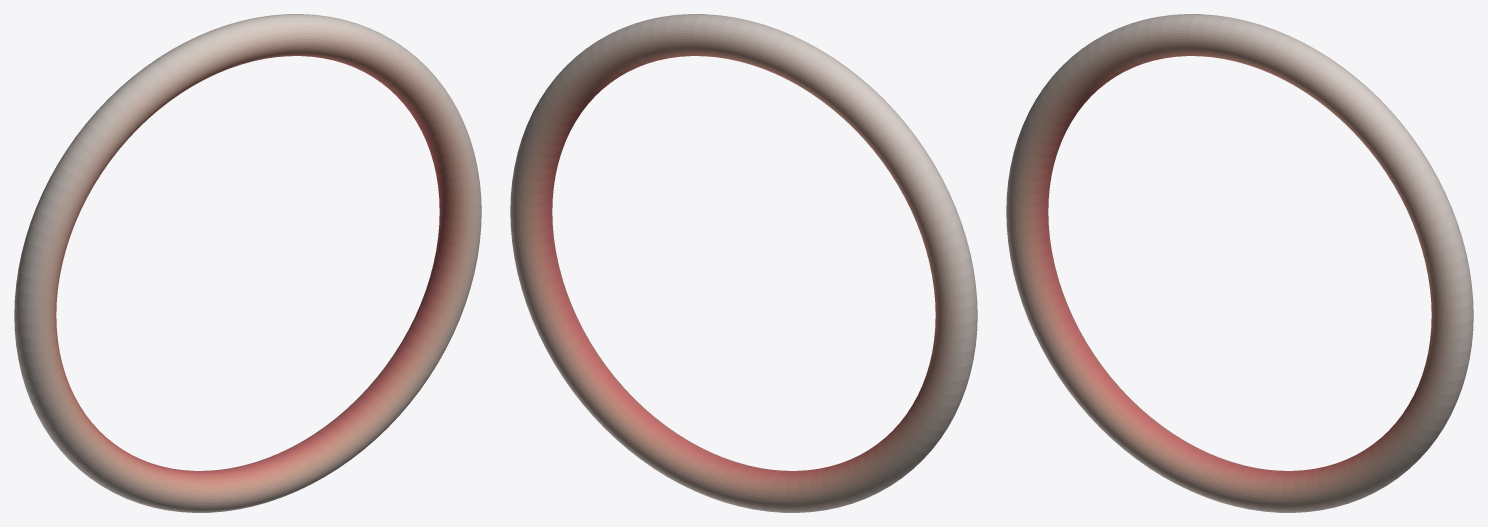
3 views of the same model, side by side, from view 1: azimuth 30°, elevation 25°; view 2: azimuth 150°, elevation 25°; view 3: azimuth 330°, elevation 25° (orthographic).
Visible parts, largest first — view 1: world; view 2: world; view 3: world.
Boxes of the visible parts, x1,y1,x2,y2 form: world: [14, 14, 481, 512]; world: [510, 14, 977, 512]; world: [1006, 14, 1473, 512].
Bounding box in the file's own units: 25.33 × 25.33 × 2.
